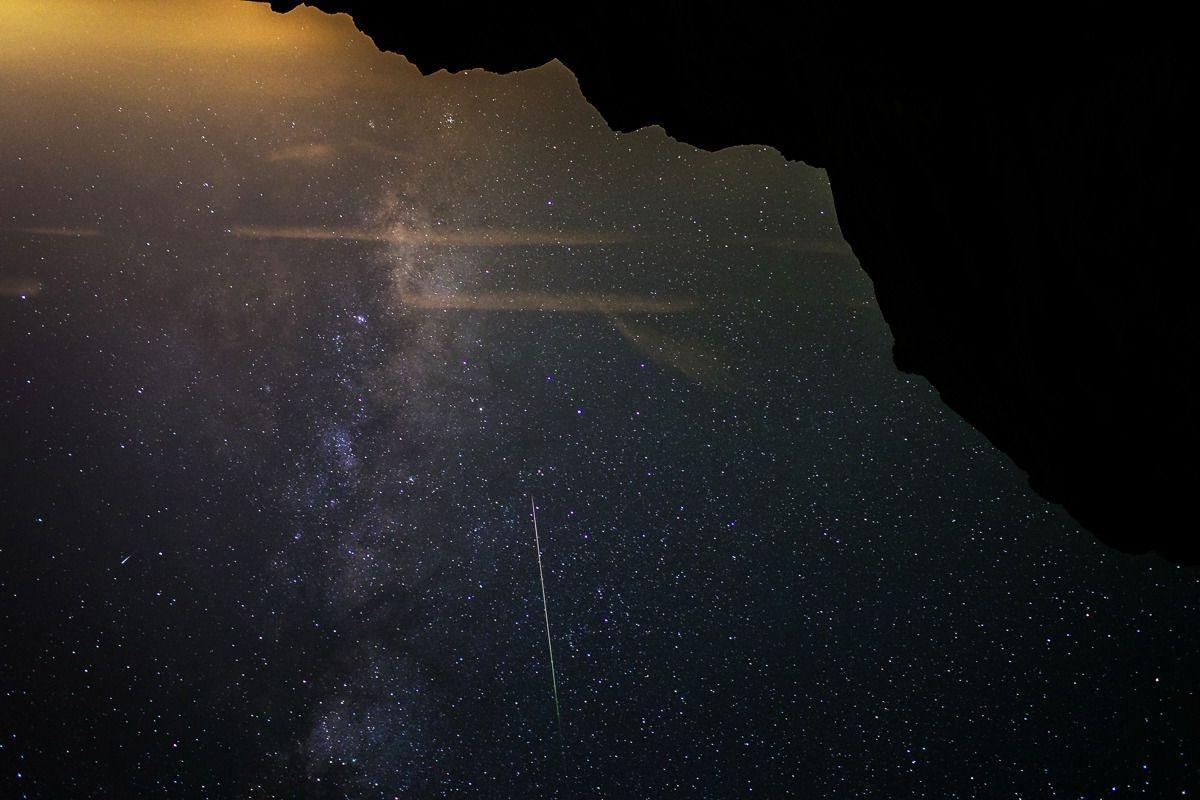meteorite: (513, 482, 591, 749), (108, 550, 145, 567)
